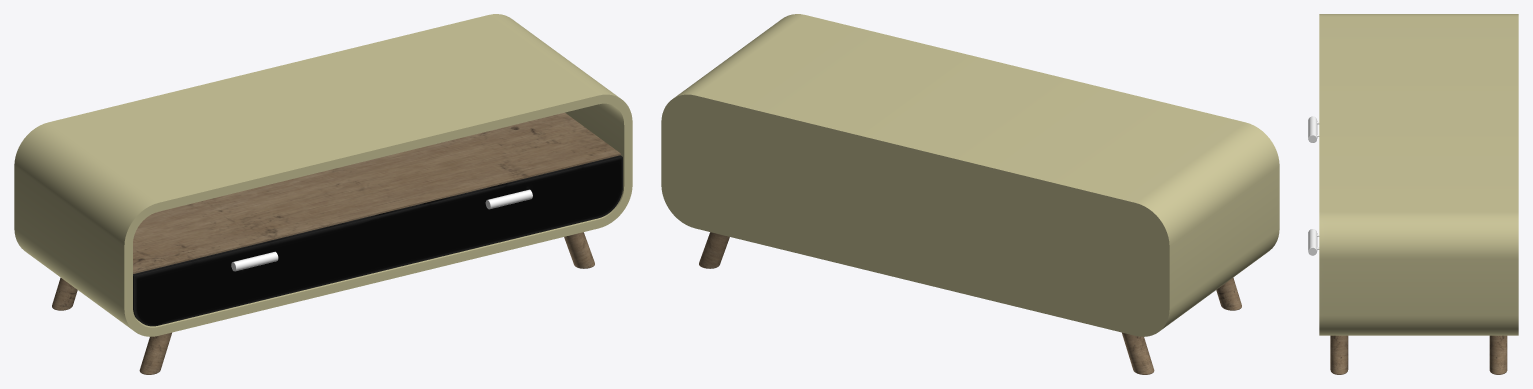
Rendered from TV Stand 4.glb.
3 views of the same model, side by side, from view 1: azimuth 30°, elevation 25°; view 2: azimuth 150°, elevation 25°; view 3: azimuth 270°, elevation 25° (orthographic). The views are drawn at different scales.
Parts seen in each view (by area): view 1: Caisson_0; view 2: Caisson_0; view 3: Caisson_0.
Boxes of the visible parts, x1,y1,x2,y2 form: Caisson_0: (14,14,632,374); Caisson_0: (661,14,1279,374); Caisson_0: (1308,14,1518,374).
Bounding box in the file's own units: 1.2 × 0.3995 × 0.4745.
5 materials, 4 textured.
